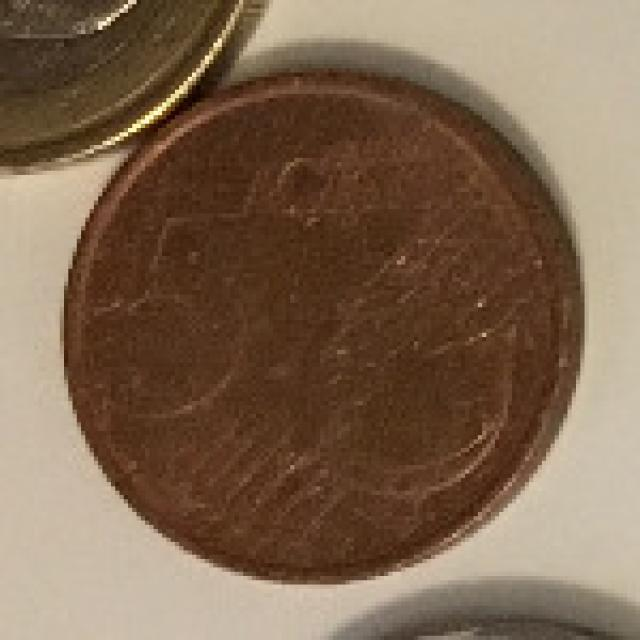5c: (55, 64, 589, 585)
